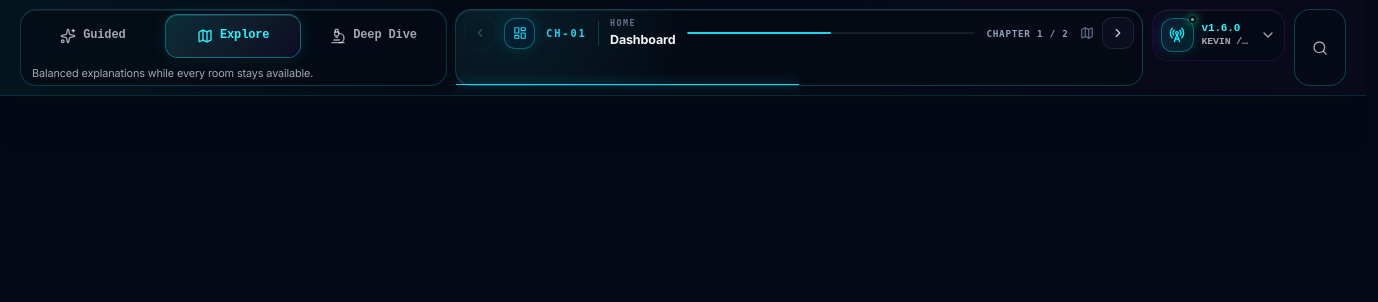
Test: ExpeditionConsole › describes the bundled flagship and closes the disclosure with Escape
The width and height of the screenshot is (1378, 302).
Expected: the element with test id "archive-compact-status" reads "v1.6.0 Kevin / Lirioth", x1=1201 y1=22 x2=1253 y2=48
Click the button with test id "archive-capsule-trigger": (1218, 35) x1=1152 y1=9 x2=1285 y2=61
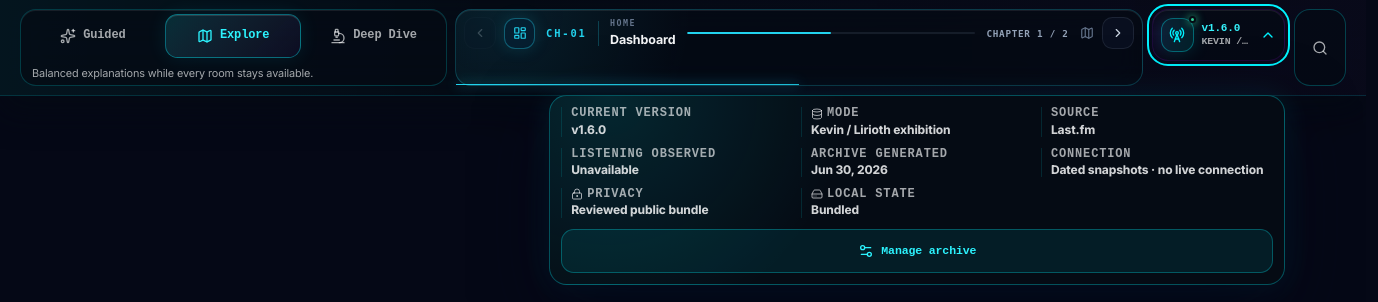
Expected: the element with test id "archive-capsule-panel" shows "Kevin / Lirioth exhibition", x1=811 y1=122 x2=951 y2=137
Expected: the element with test id "archive-capsule-panel" shows "Reviewed public bundle", x1=571 y1=202 x2=708 y2=217
Expected: the element with test id "archive-capsule-panel" shows "Bundled", x1=811 y1=202 x2=859 y2=217
Press Escape
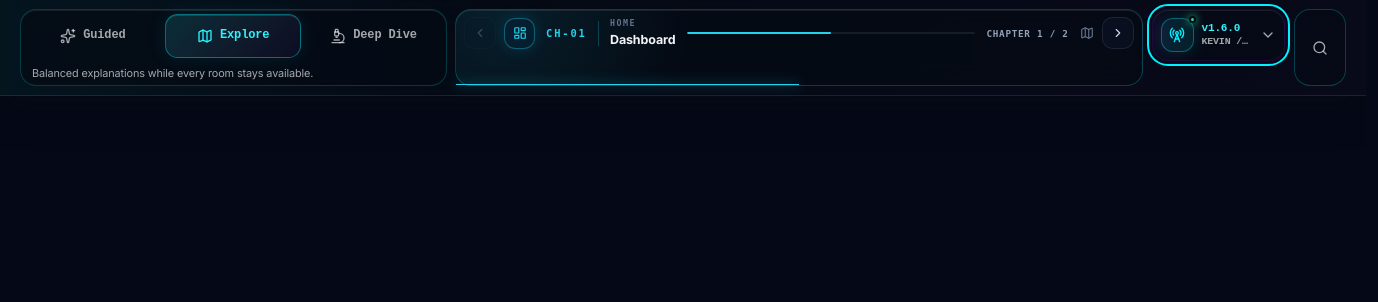
Expected: the element with test id "archive-capsule-panel" is gone
